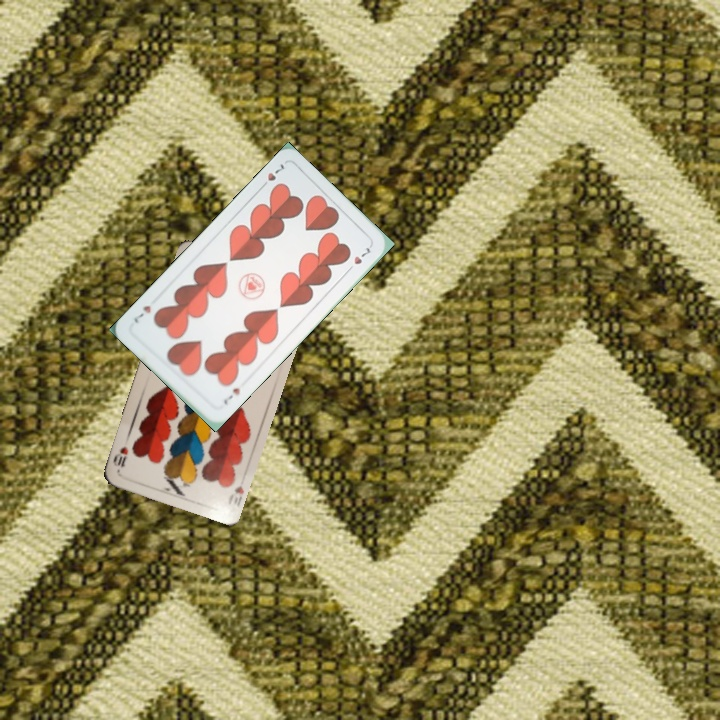H10: (224, 481, 246, 510)
H7: (256, 160, 287, 192), (219, 384, 242, 407)
